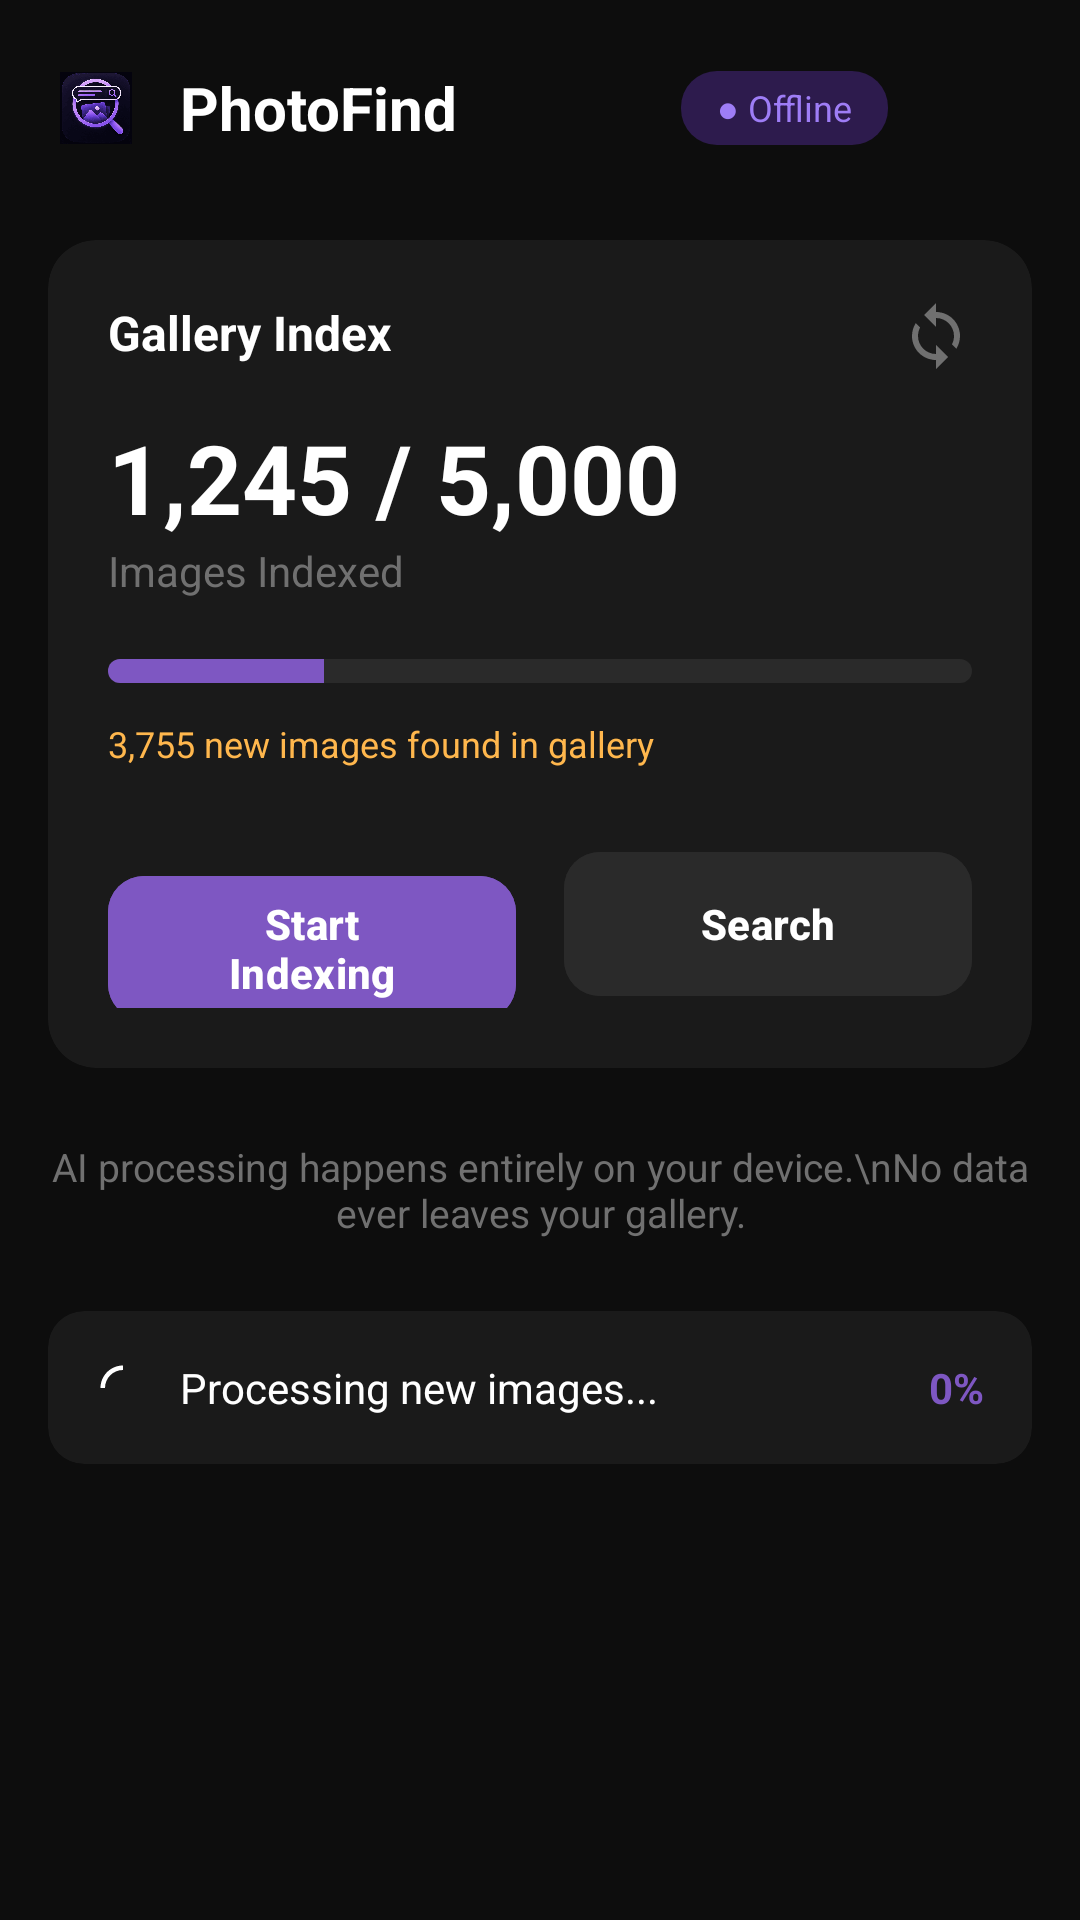

Named icons in this screenshot (1080x1920) and their centers, (x=x, y=y):
Sync Gallery: (x=936, y=336)
